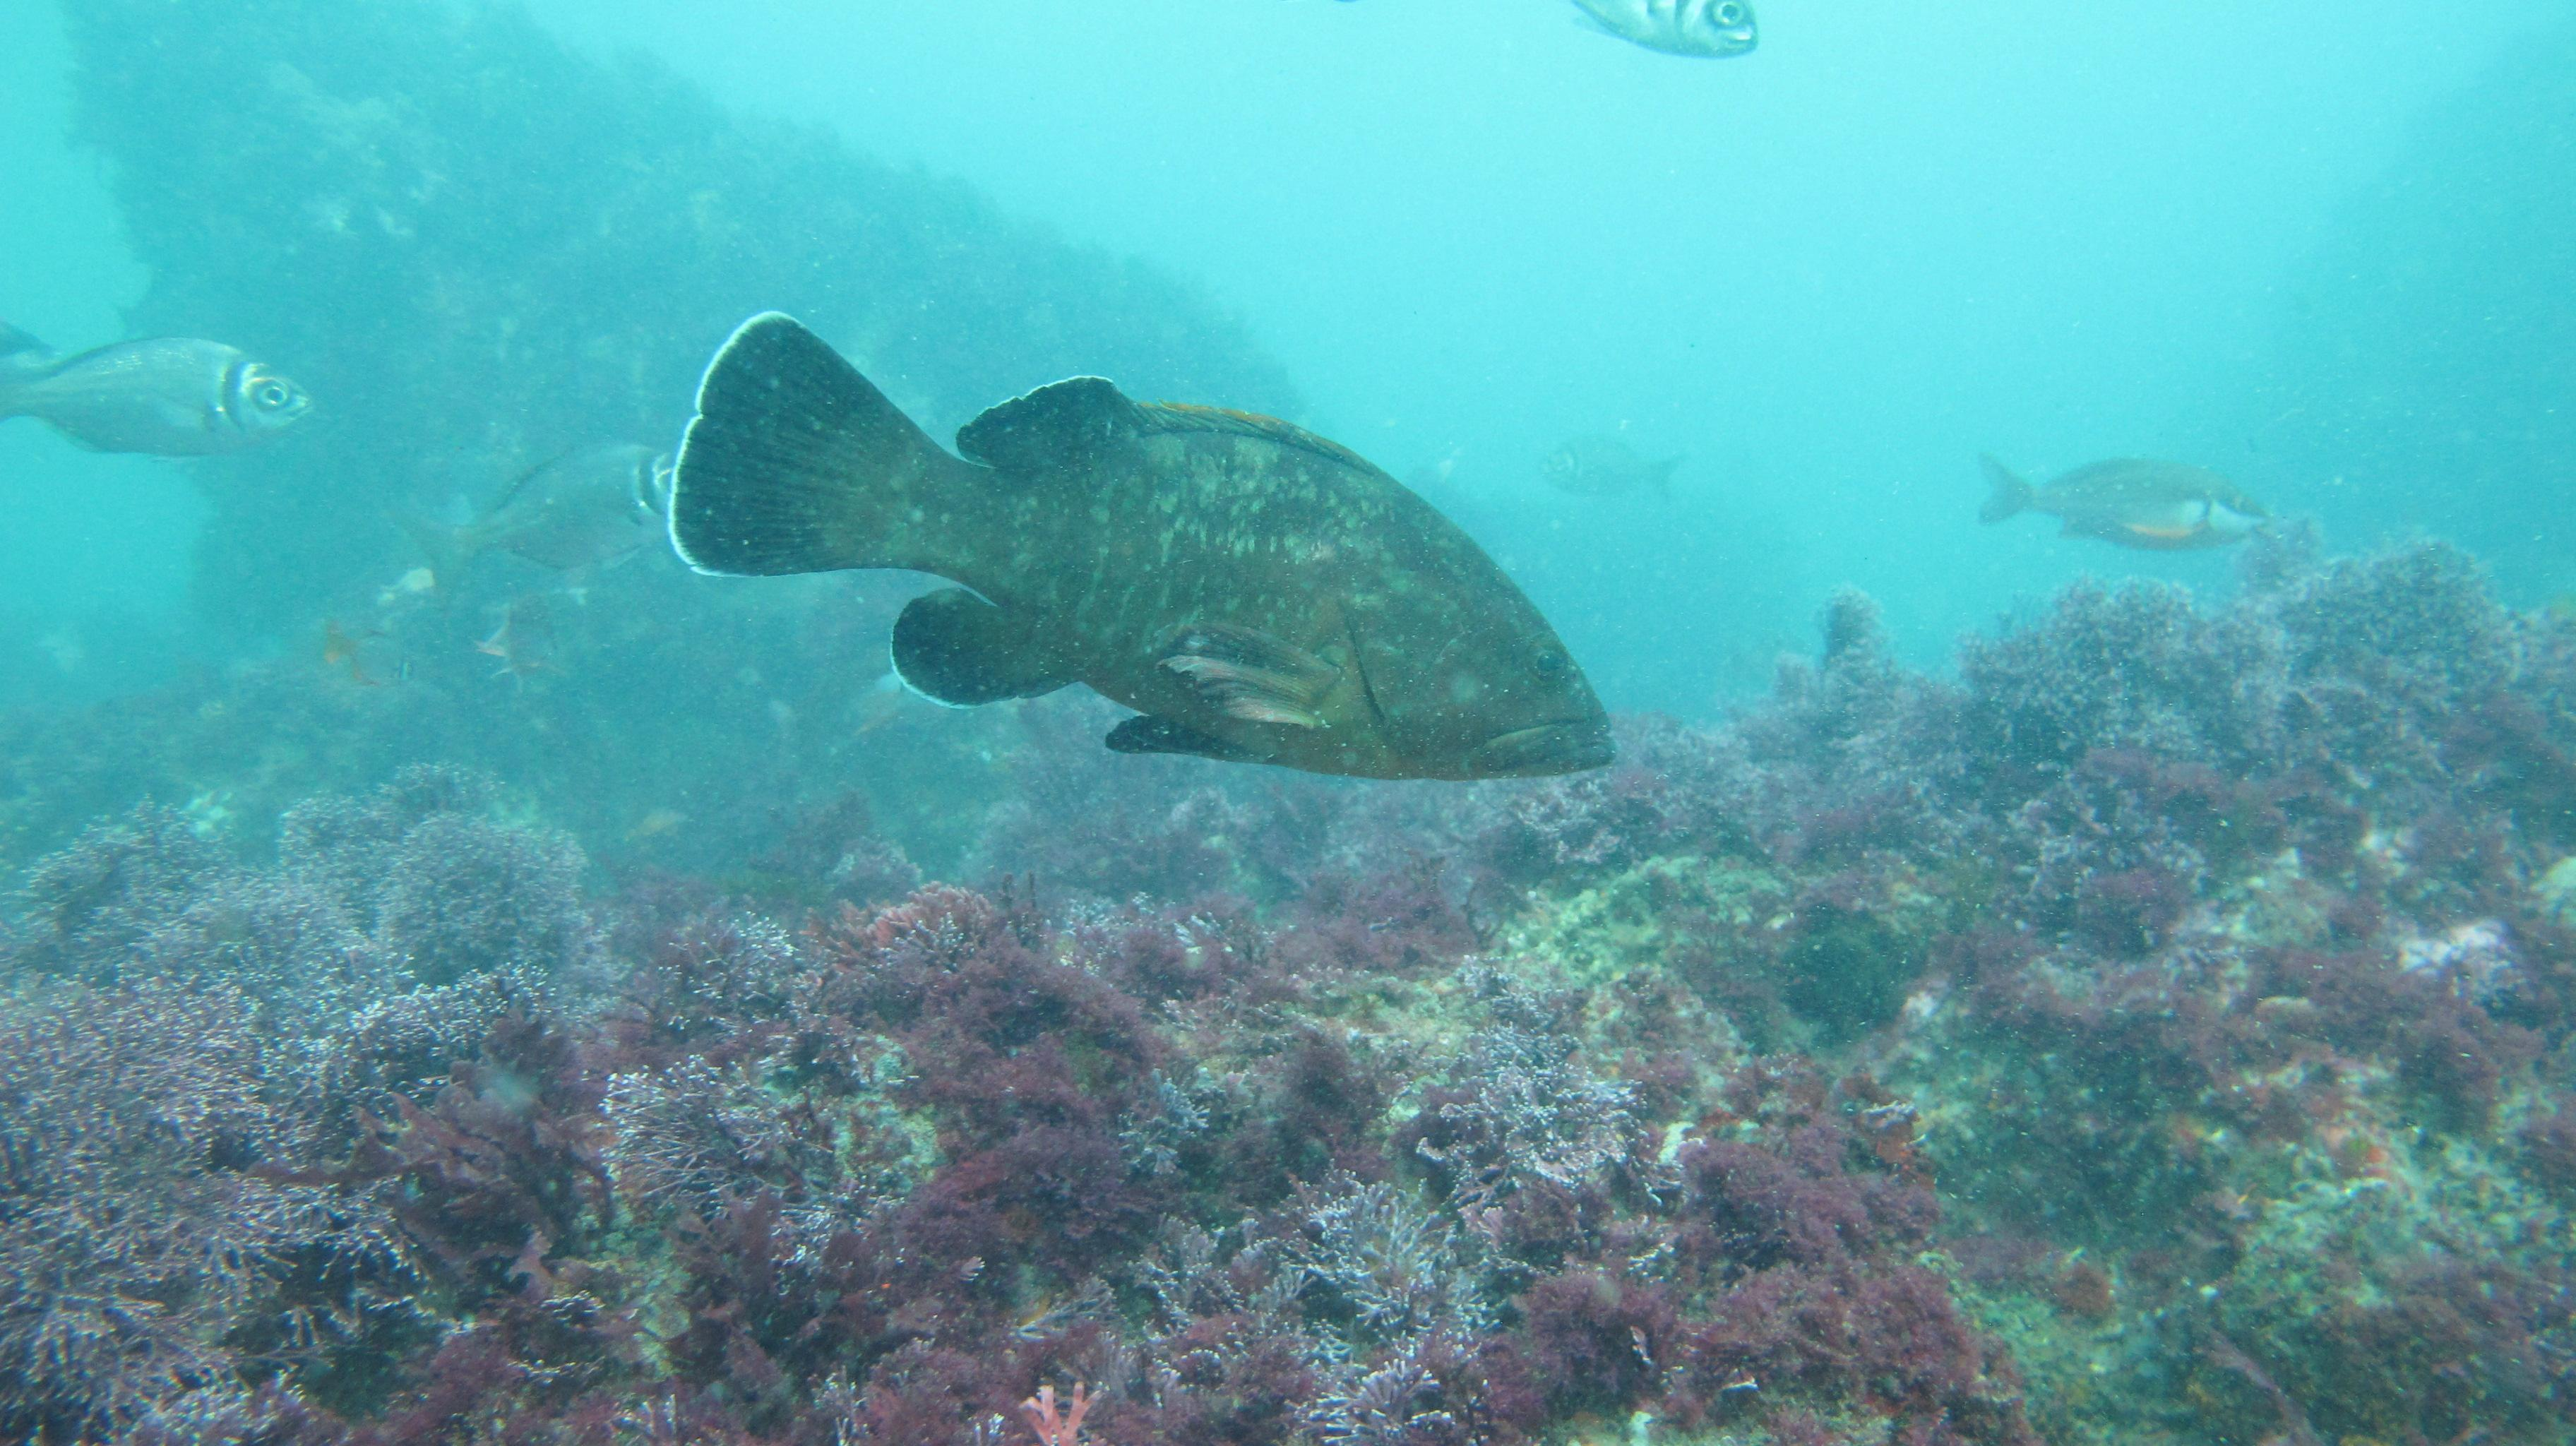Fish: (648, 285, 1637, 834)
